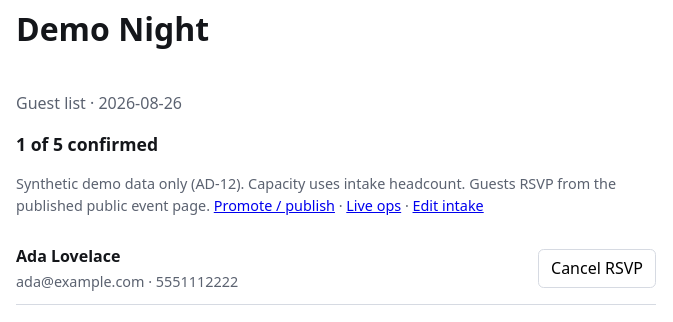
Test case: GuestListView › shows confirmed count vs headcount and can cancel an RSVP
Check: the text "1 of 5 confirmed" is shown, box [16,132,158,156]
Check: the text "Ada Lovelace" is shown, box [16,246,120,268]
Click the button "Cancel RSVP": [597, 268] box [538,249,656,288]
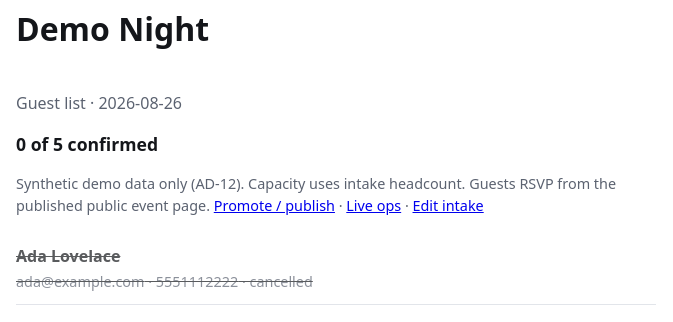
Check: the text "0 of 5 confirmed" is shown, box [16,132,158,156]
Check: the text "ada@example.com · 5551112222 · cancelled" is shown, box [16,271,313,292]
